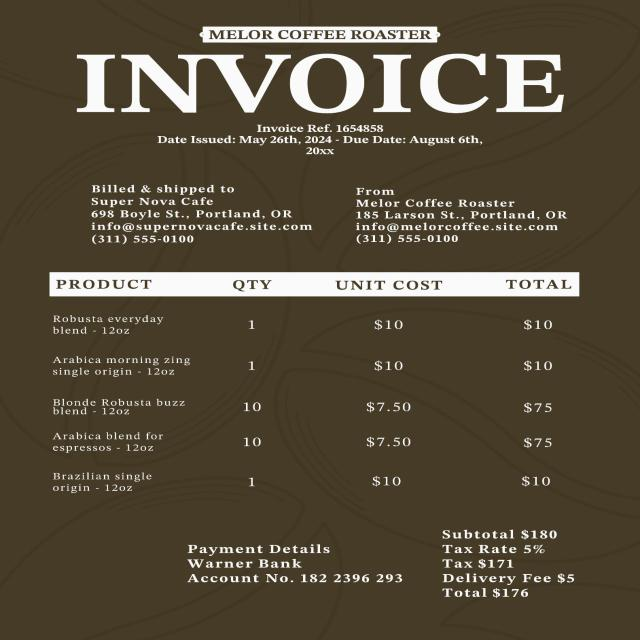paragraph: (70, 49, 578, 118), (82, 180, 318, 250), (346, 186, 574, 249), (130, 122, 495, 158), (178, 541, 412, 593), (439, 526, 586, 604), (206, 24, 434, 46)
table: (50, 272, 576, 496)
